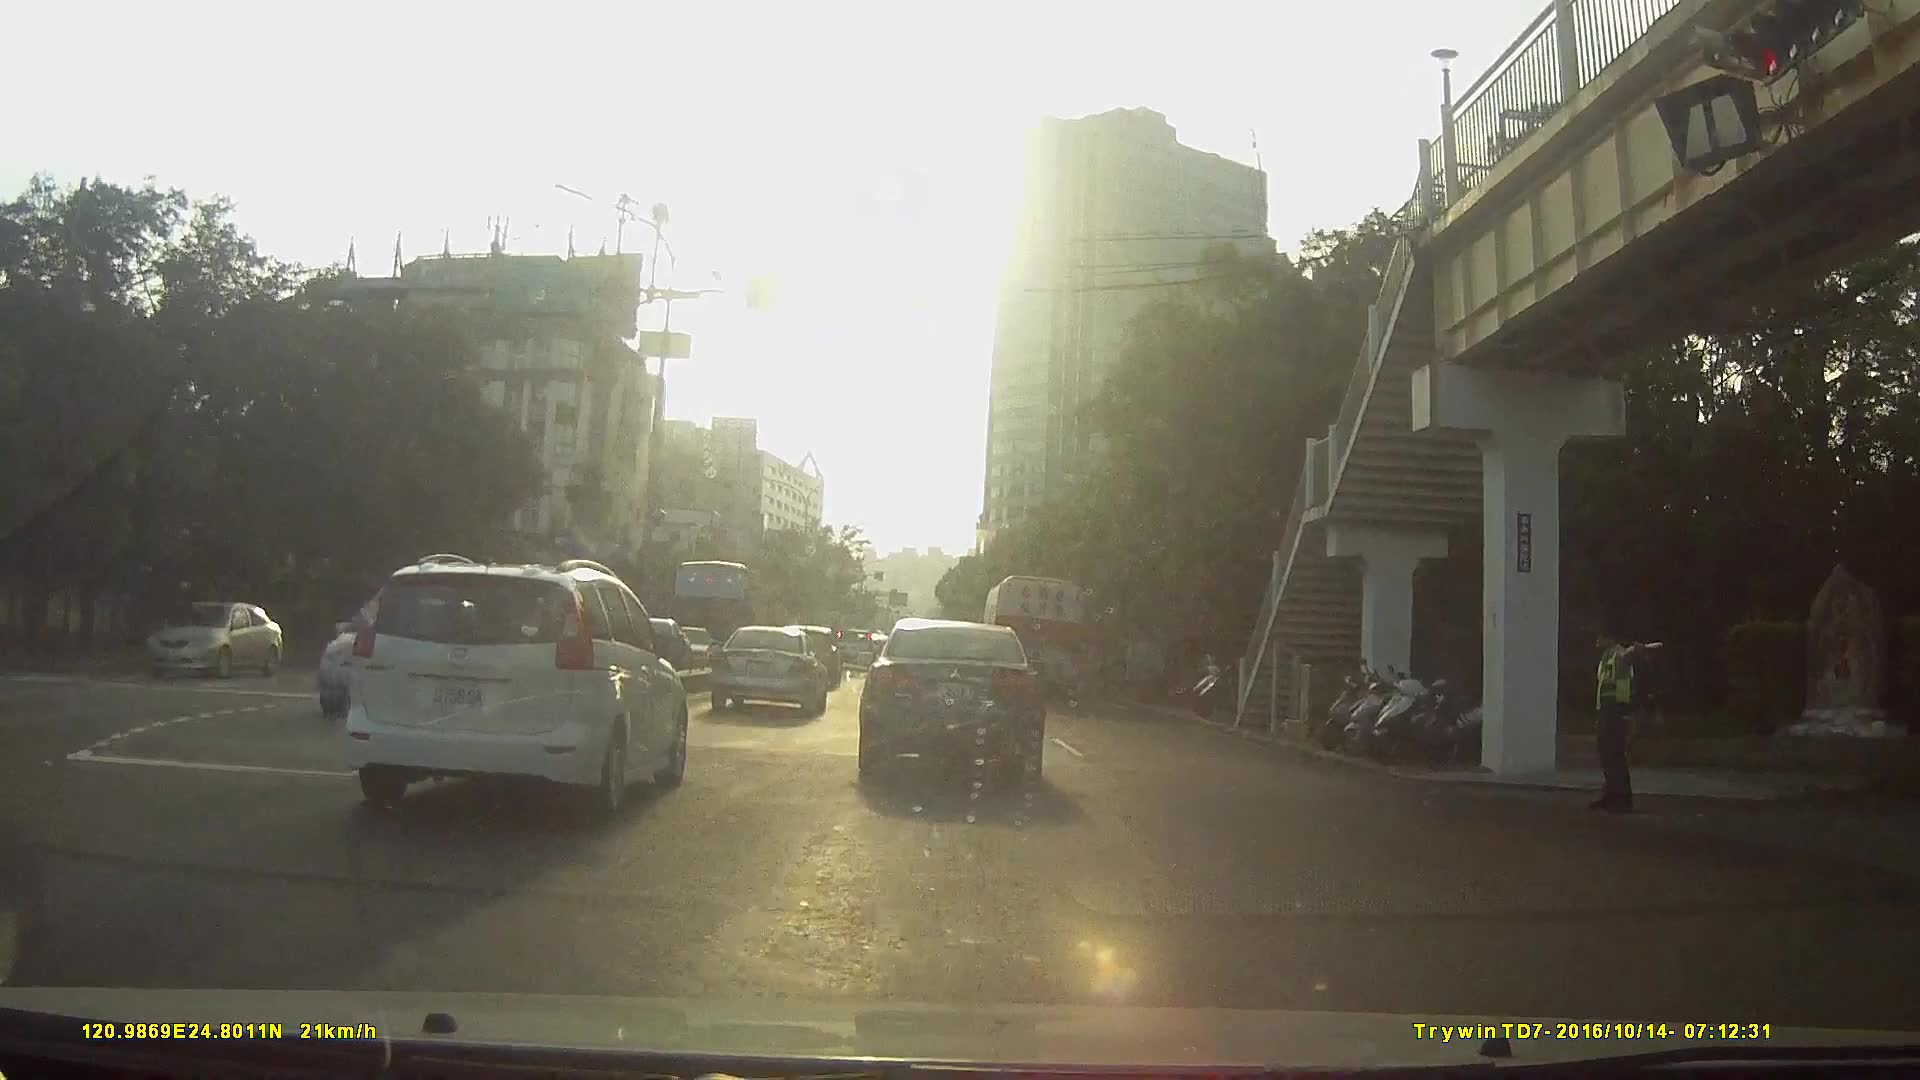pedestrian: (1584, 613, 1669, 813)
vehicle: (250, 556, 684, 868), (349, 551, 692, 816), (856, 612, 1046, 784), (299, 590, 474, 734), (142, 593, 301, 687), (977, 572, 1087, 704), (663, 556, 774, 663), (710, 622, 829, 716), (829, 622, 877, 668)
